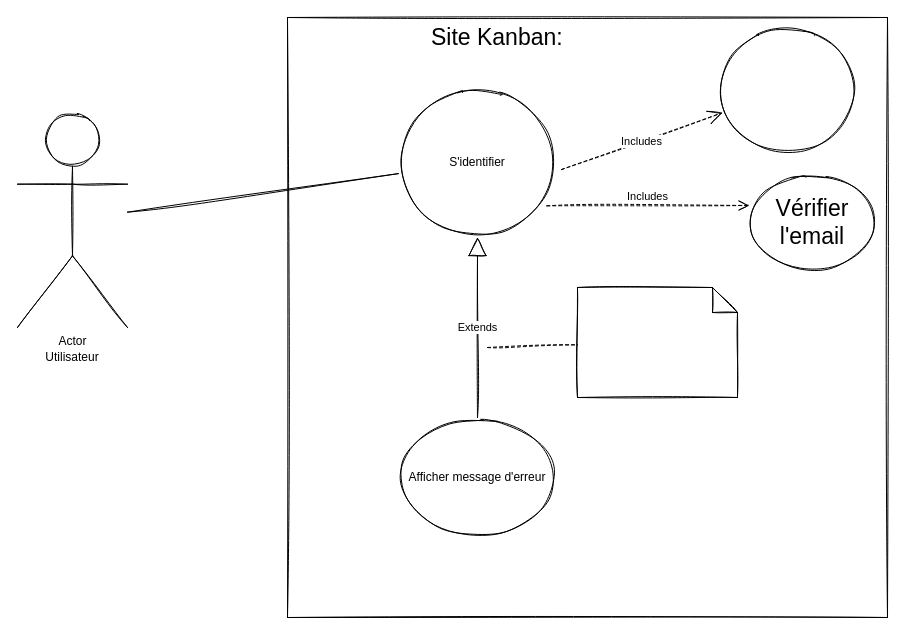
Some shapes in this 905 by 635 pixel diagram are drawn without their labels. Here are the shapes that lost their labels. From the top down, the box of each, then its label:
(716, 26, 858, 152): Vérifier le mot de passe
(576, 286, 738, 398): Condition: si mot de passe erroné ou email eronné
